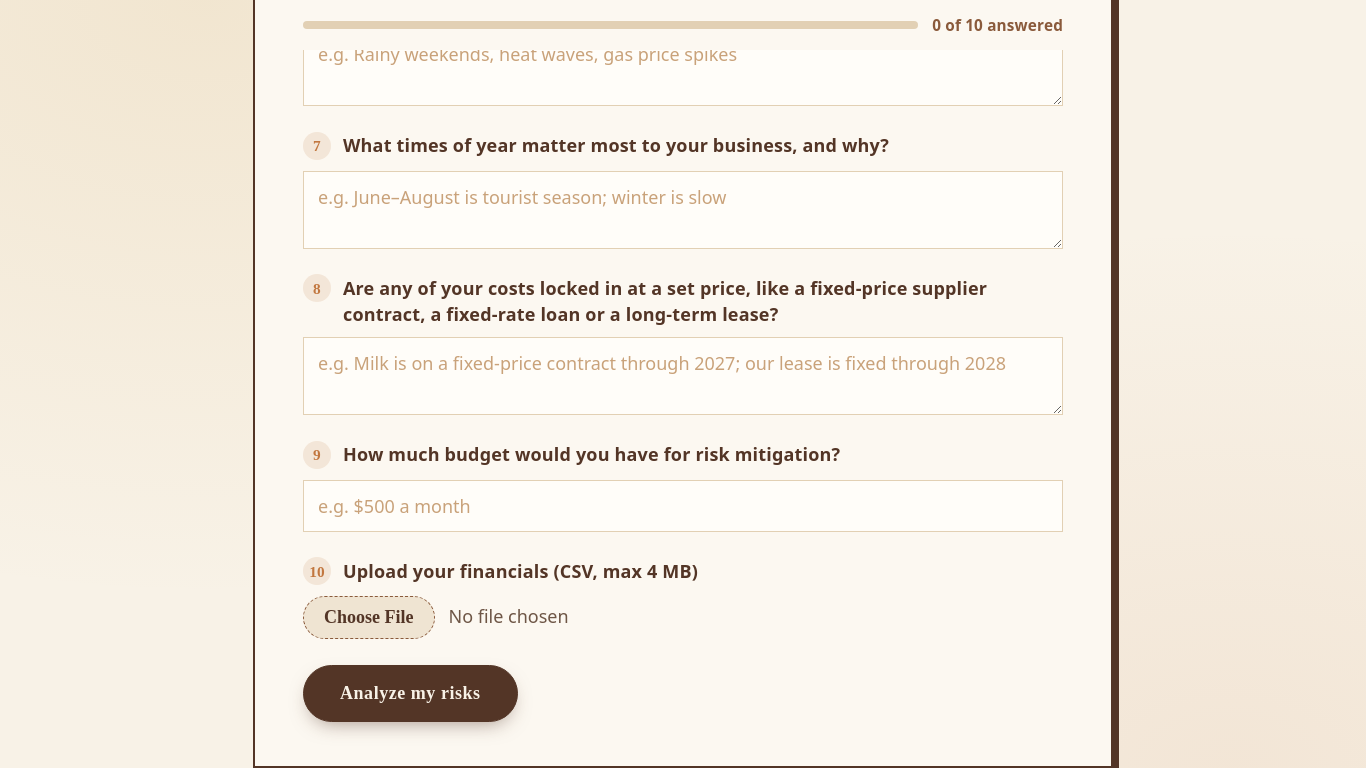
QuestionnairePage › does not offer sample results when the problem is with what was entered
(page scrolled)
Click the button "Analyze my risks".
click(410, 694)  # box [303, 666, 518, 722]
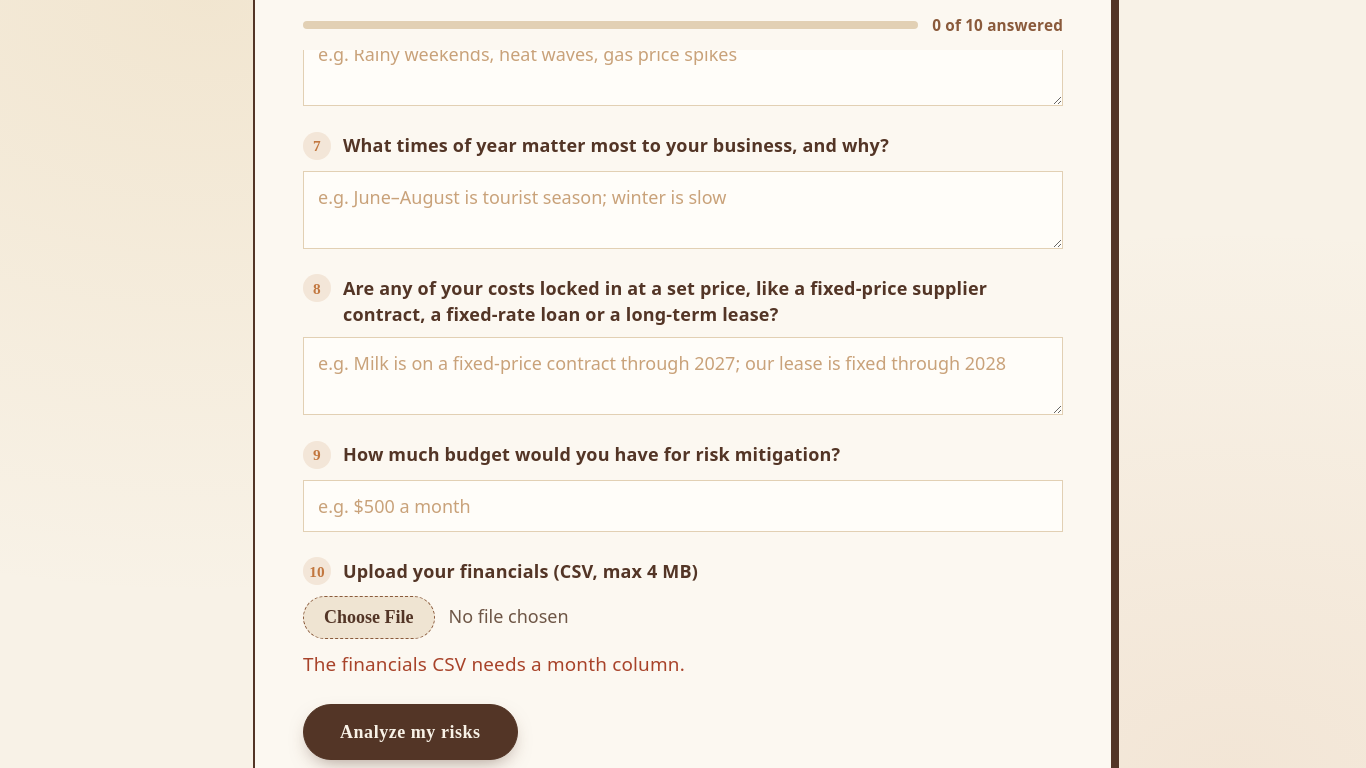
Result: the message shows "month column" at [303, 652, 685, 678]
